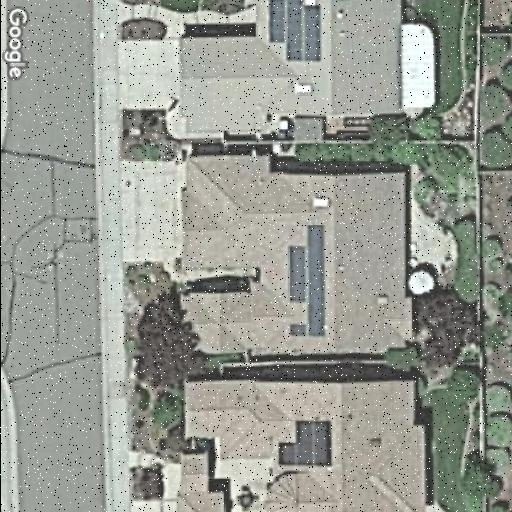solar-panel: (286, 221, 328, 339), (266, 2, 324, 64), (276, 419, 332, 468)
